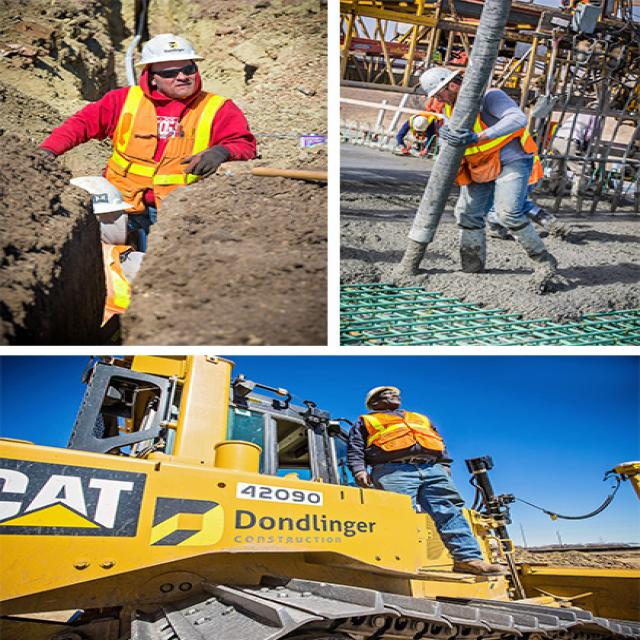Reflective-Jacket: (100, 85, 232, 189), (442, 93, 536, 184), (355, 410, 443, 455)
Safety-Helmet: (131, 31, 206, 68), (414, 63, 465, 99), (361, 383, 404, 405)
